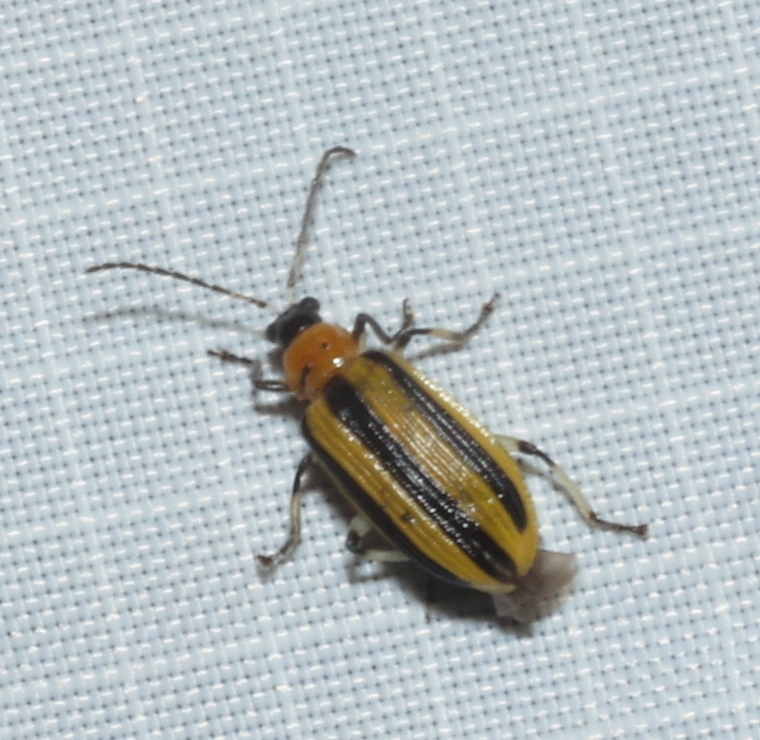potato_beetle: (101, 124, 741, 729)
